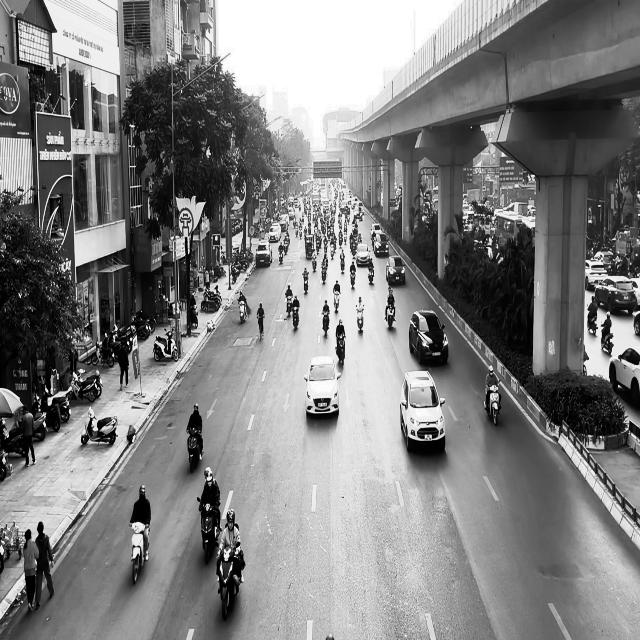bus: (492, 208, 532, 252)
car: (400, 369, 446, 452), (303, 355, 341, 417), (409, 309, 448, 365), (608, 345, 640, 405), (386, 255, 405, 285), (356, 243, 370, 265)
motorbike: (216, 546, 244, 620), (196, 497, 221, 564), (80, 405, 118, 446), (128, 521, 150, 584), (153, 328, 179, 362), (484, 380, 501, 426), (186, 427, 202, 473), (600, 322, 614, 355), (336, 334, 346, 364), (385, 301, 395, 329), (587, 311, 598, 335), (355, 304, 364, 332), (320, 310, 329, 337), (238, 300, 248, 323), (291, 306, 299, 329), (333, 288, 340, 313), (302, 272, 309, 293), (285, 295, 292, 315)
